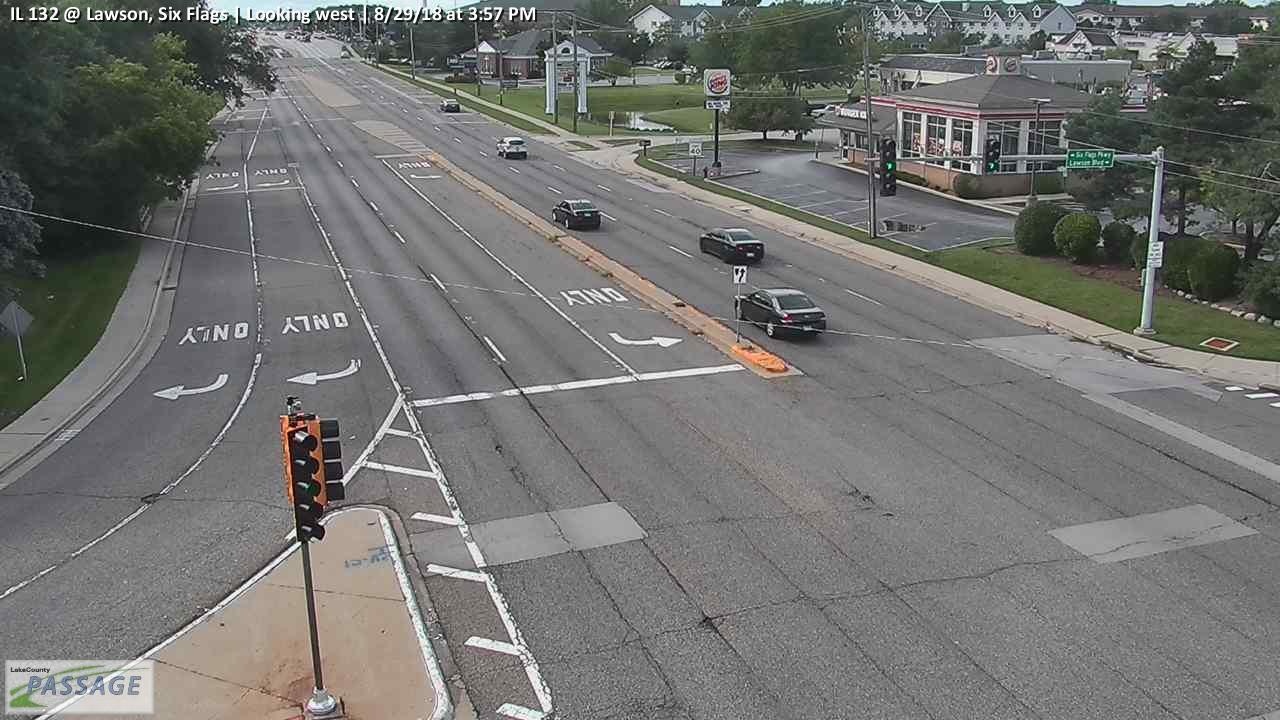SUV: (497, 136, 528, 158)
Sedan: (735, 288, 826, 337), (698, 227, 764, 264), (552, 200, 601, 231), (439, 98, 459, 111)
